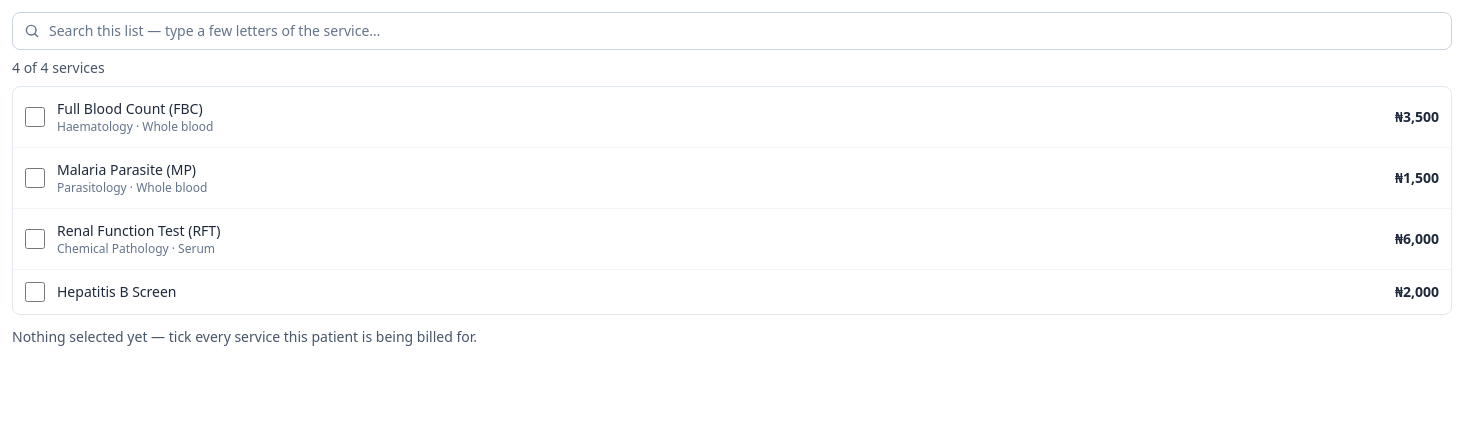
Scenario: selecting, unselecting and the running total › ticks one service and says what it comes to
The image size is (1464, 430).
Click the checkbox labelled "Full Blood Count (FBC) Haematology · Whole blood ₦3,500": (35, 117) 25,107 -> 45,127
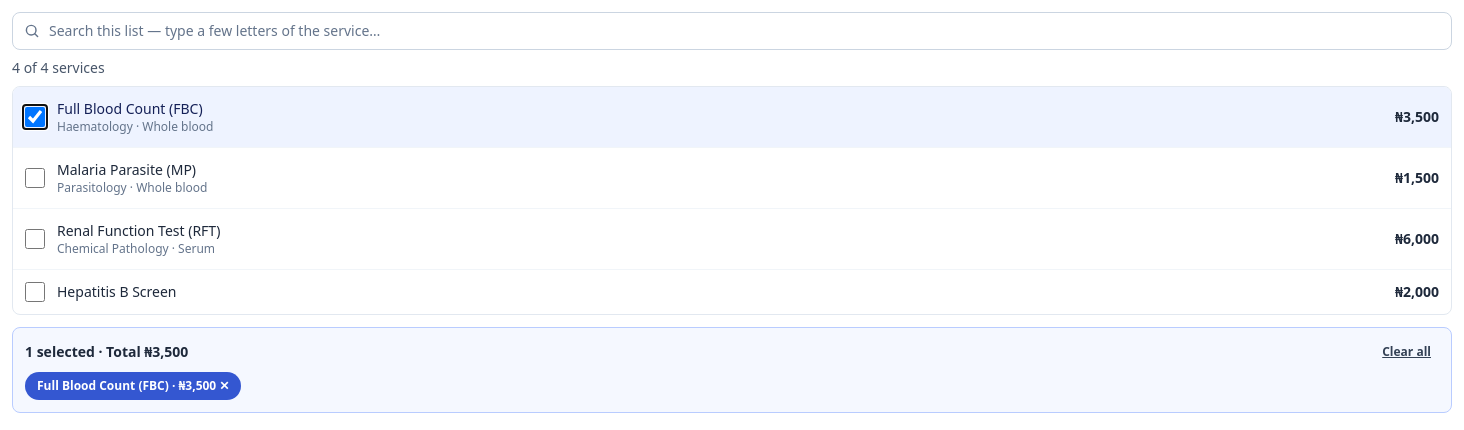
Check: the text "1 selected · Total ₦3,500" is shown, box 25,342 -> 188,362
